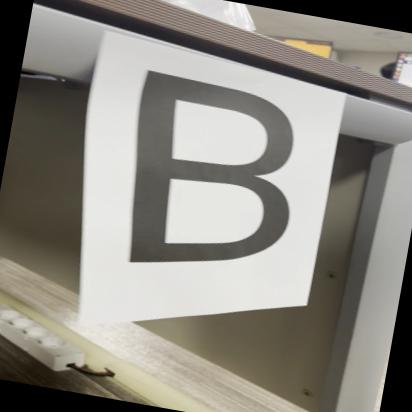seat: (94, 56, 335, 300)
